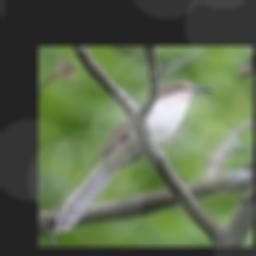Cuckoo: (55, 81, 214, 233)
